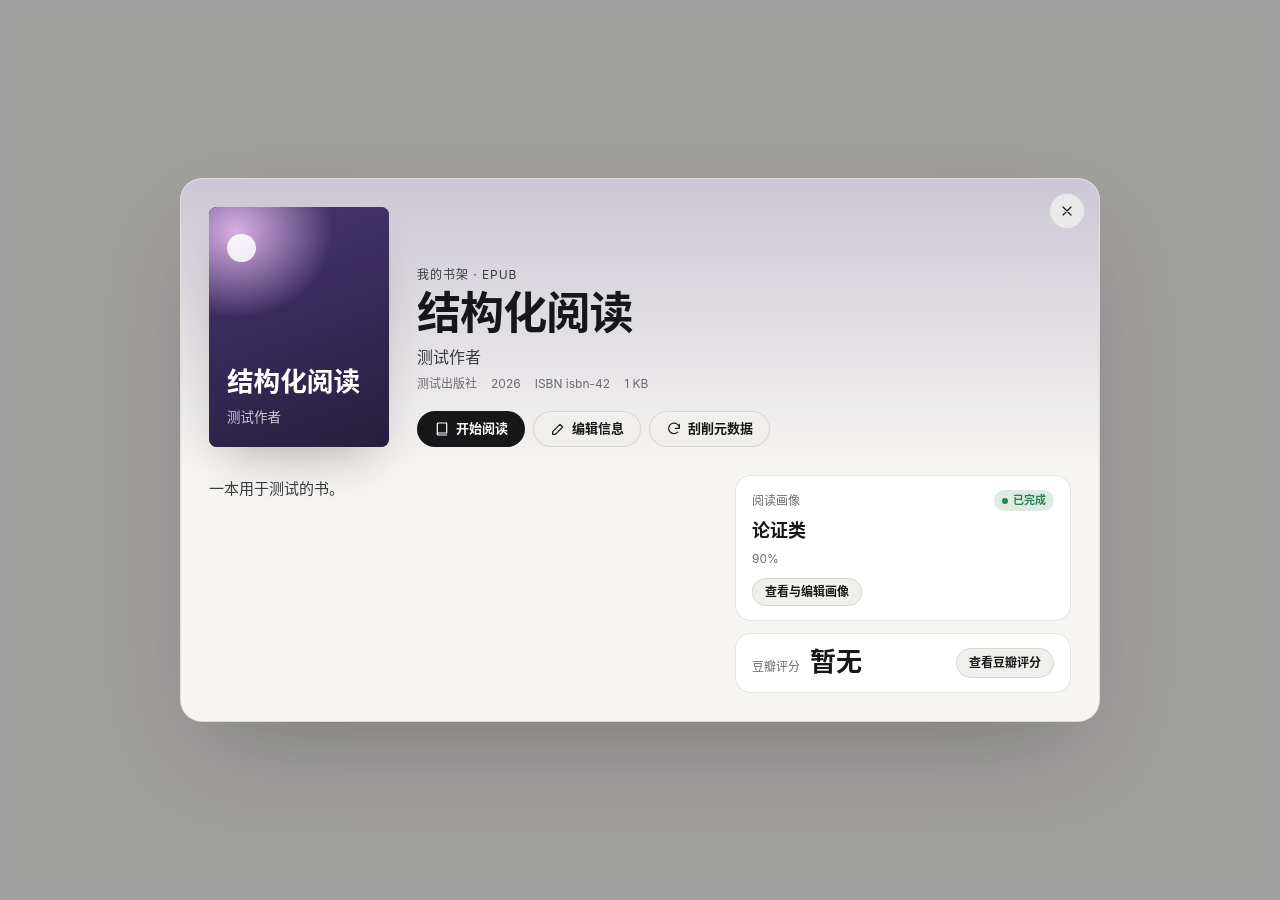
Scenario: BookDetailModal 书籍画像 › 已应用分析仍显示完成状态，但不再显示重复应用按钮，并将次类型显示为中文
The width and height of the screenshot is (1280, 900).
What coordinates should you click on to do the following:
click the button "查看与编辑画像"
I would click on:
 (807, 592)
Its box is [752,578,862,606].
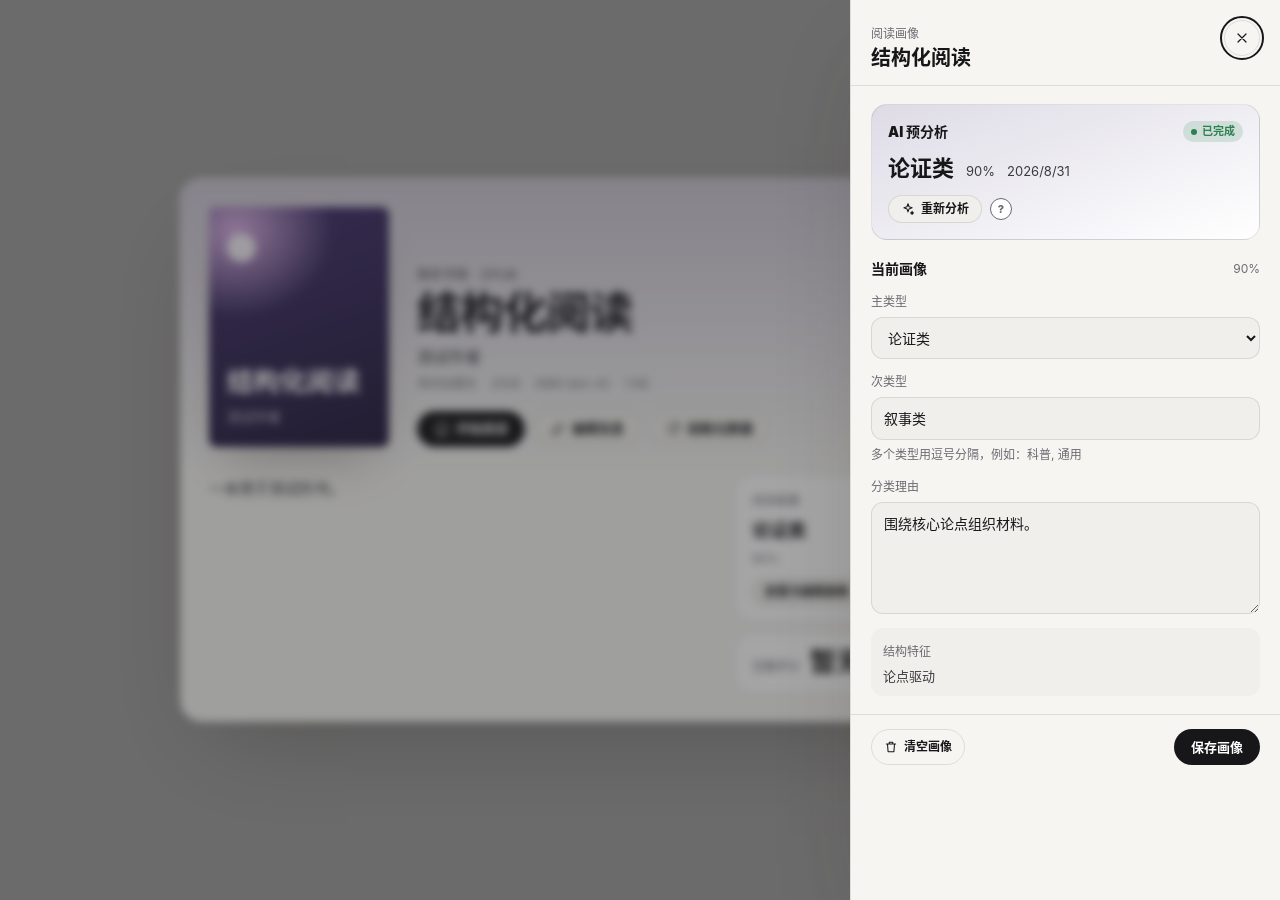
Check: the text "已完成" is shown, box [994,490,1054,511]
Check: the field labelled "次类型" holds "叙事类", box [871,397,1260,440]
